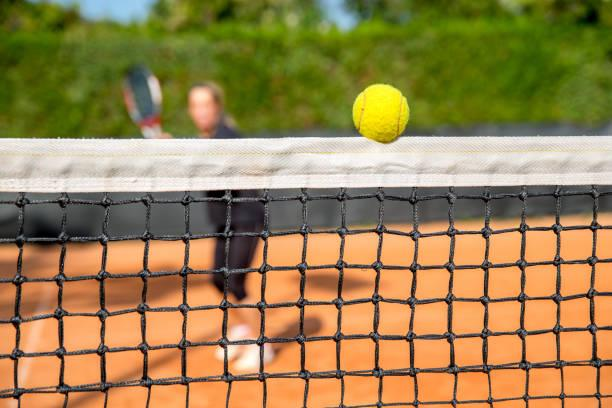ball_tennis: (353, 85, 410, 143)
